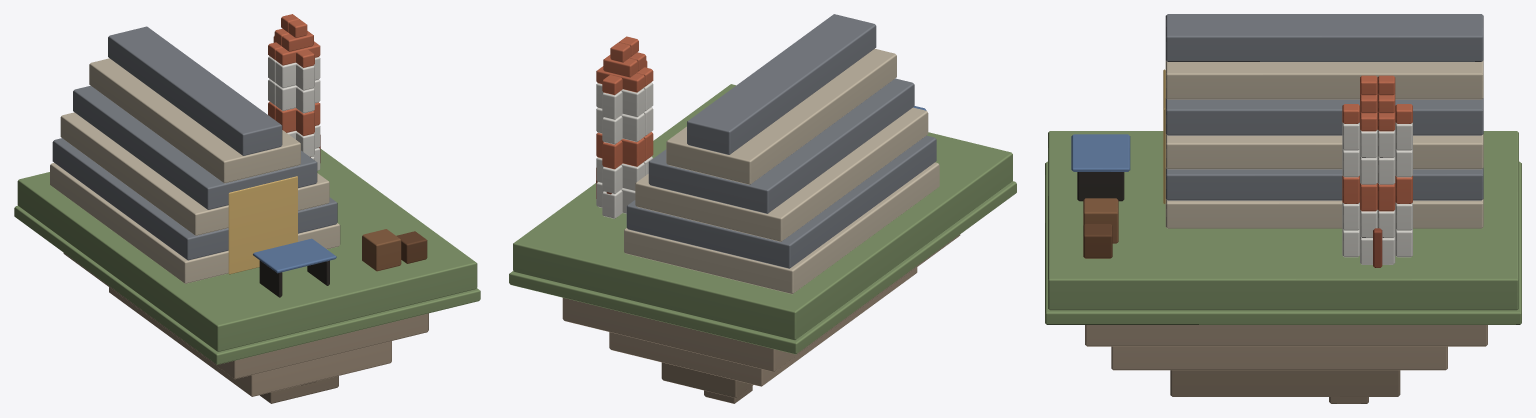
File: region_24.glb
3 renders of one model, left to right at view 1: azimuth 30°, elevation 25°; view 2: azimuth 150°, elevation 25°; view 3: azimuth 270°, elevation 25°, orthographic. The views are drawn at different scales.
Visible parts, largest first — view 1: region_24_static, region_24_glow; view 2: region_24_static; view 3: region_24_static.
Boxes of the visible parts, x1,y1,x2,y2 form: region_24_static: [14, 14, 480, 403]; region_24_glow: [228, 176, 297, 274]; region_24_static: [509, 14, 1016, 403]; region_24_static: [1045, 14, 1521, 403].
Bounding box in the file's own units: 6.1 × 6.85 × 8.1.
